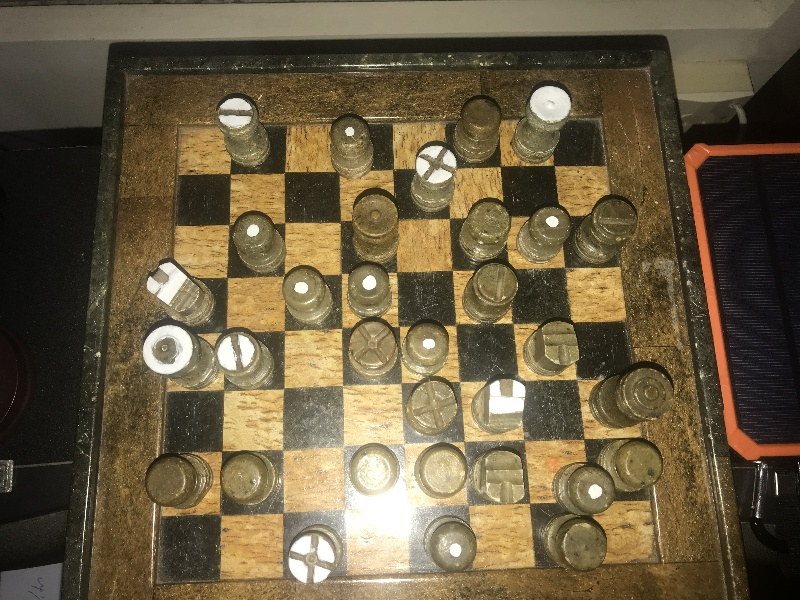WhiteBishop: (287, 525, 342, 584), (410, 144, 457, 211)
WhitePawn: (552, 463, 616, 516), (232, 215, 286, 273), (516, 206, 570, 263), (422, 515, 476, 570), (281, 268, 333, 325), (329, 117, 374, 178), (401, 325, 448, 375), (347, 266, 393, 317)
WhiteRook: (216, 96, 271, 165), (216, 330, 274, 389)
